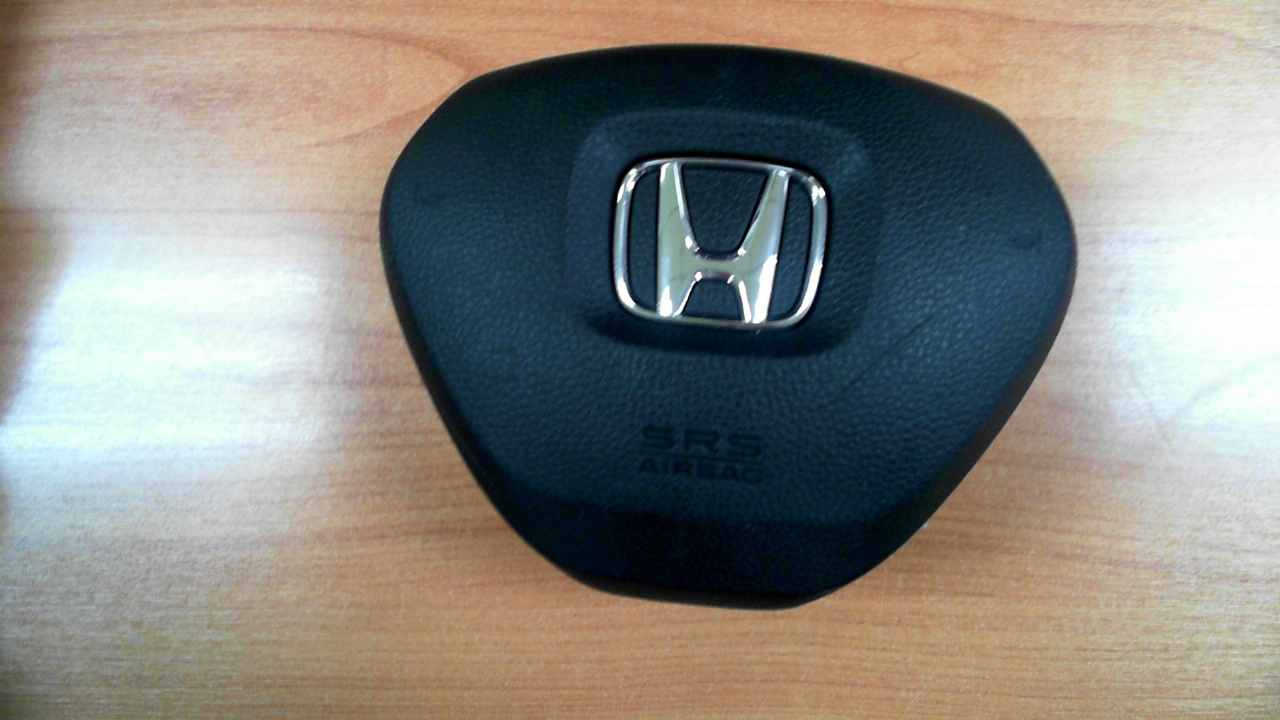Airbag: (378, 42, 1079, 613)
Honda: (612, 156, 829, 335)
